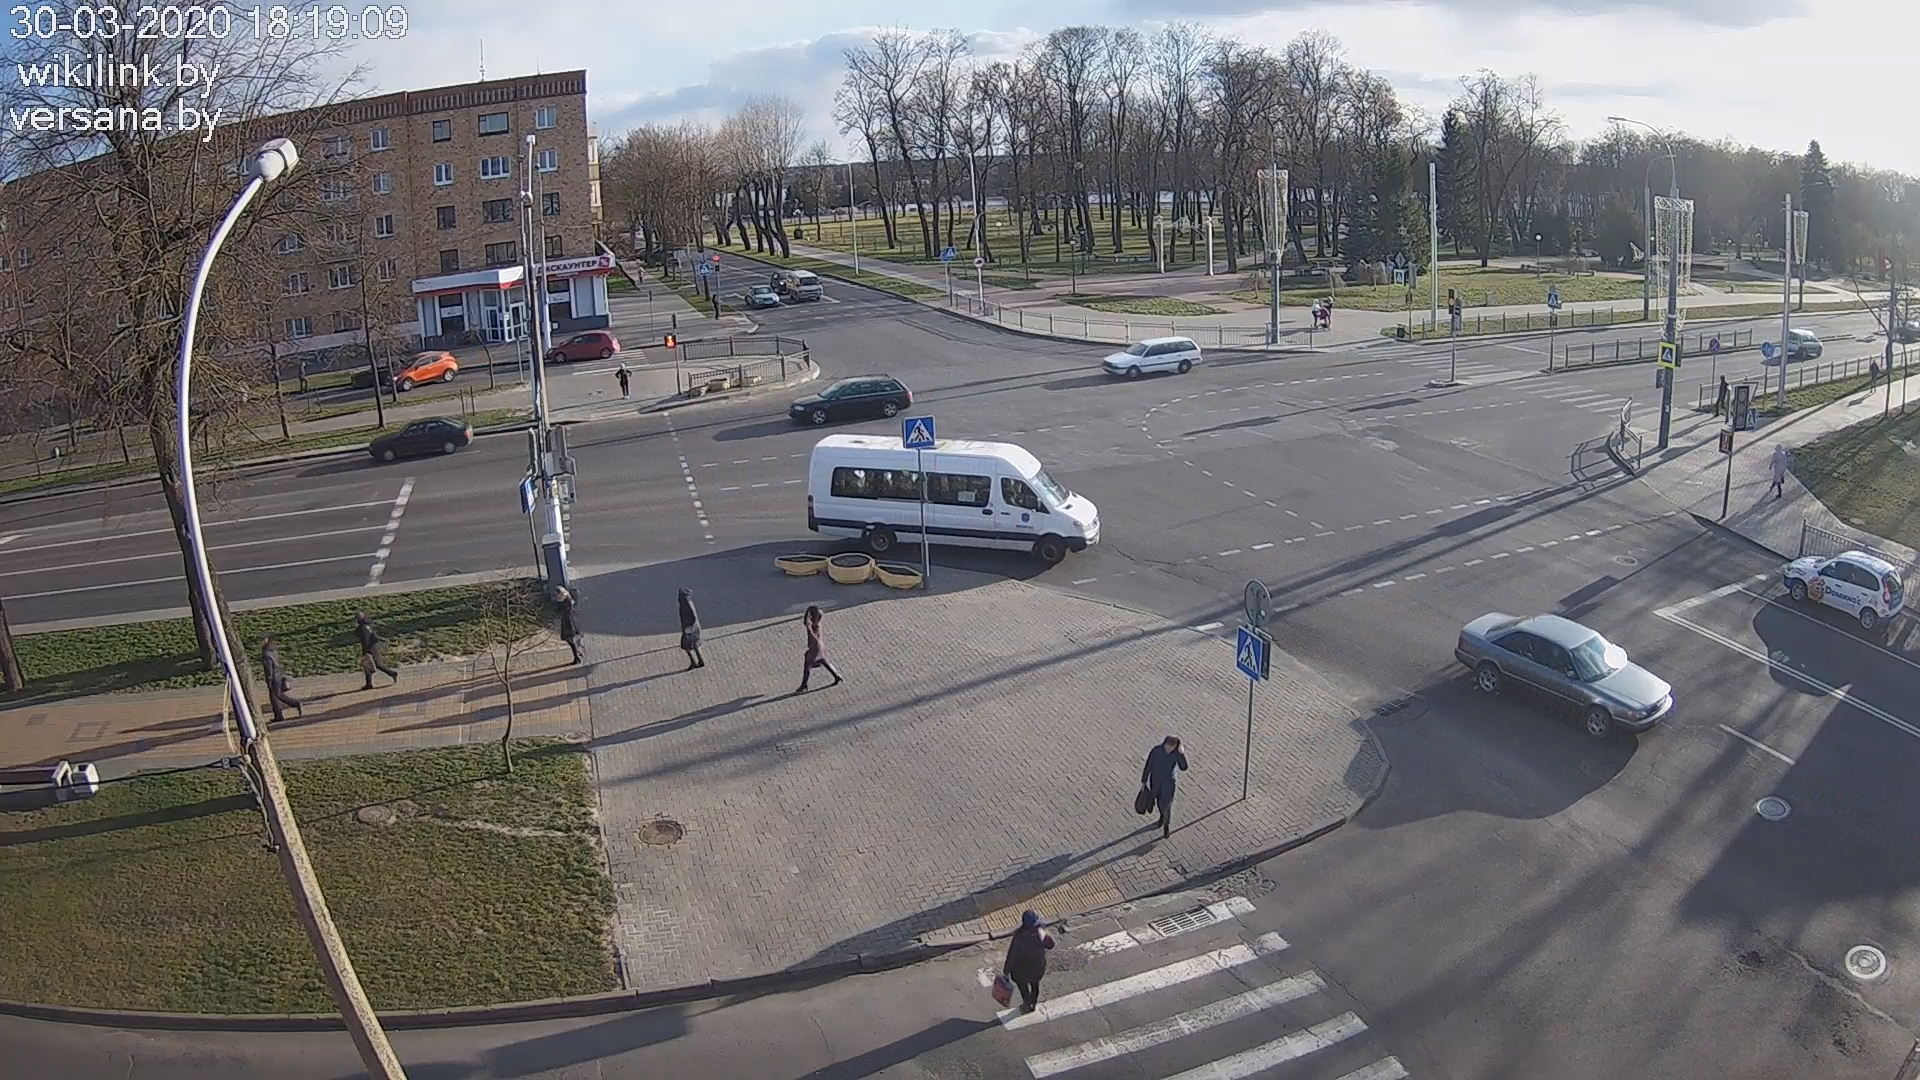car: (808, 433, 1101, 564), (1455, 612, 1673, 740), (1783, 550, 1905, 629), (789, 375, 914, 425), (369, 415, 473, 463), (1102, 335, 1204, 378), (386, 349, 459, 392), (545, 330, 620, 365), (786, 270, 824, 303), (745, 284, 779, 309)
